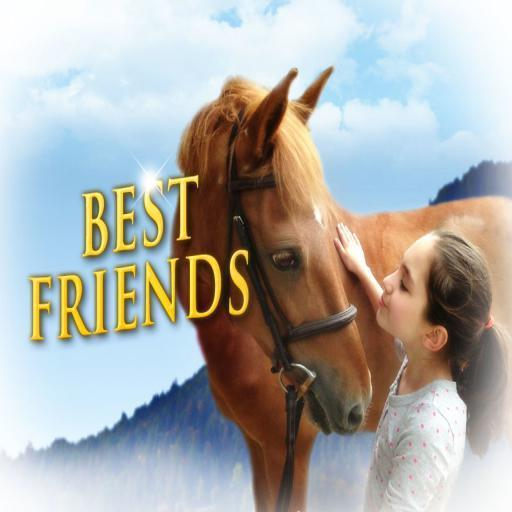horse: (168, 66, 512, 511)
